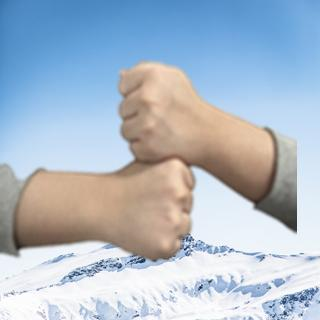CAREFUL: (39, 63, 274, 256)
